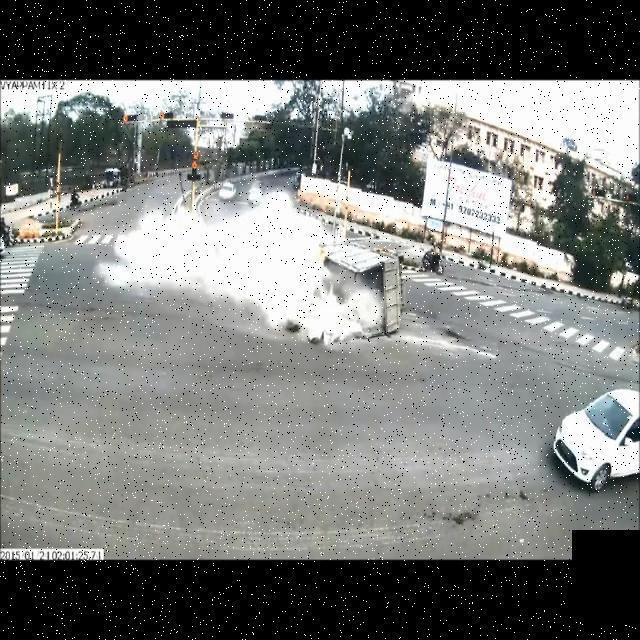accident: (301, 227, 406, 345)
